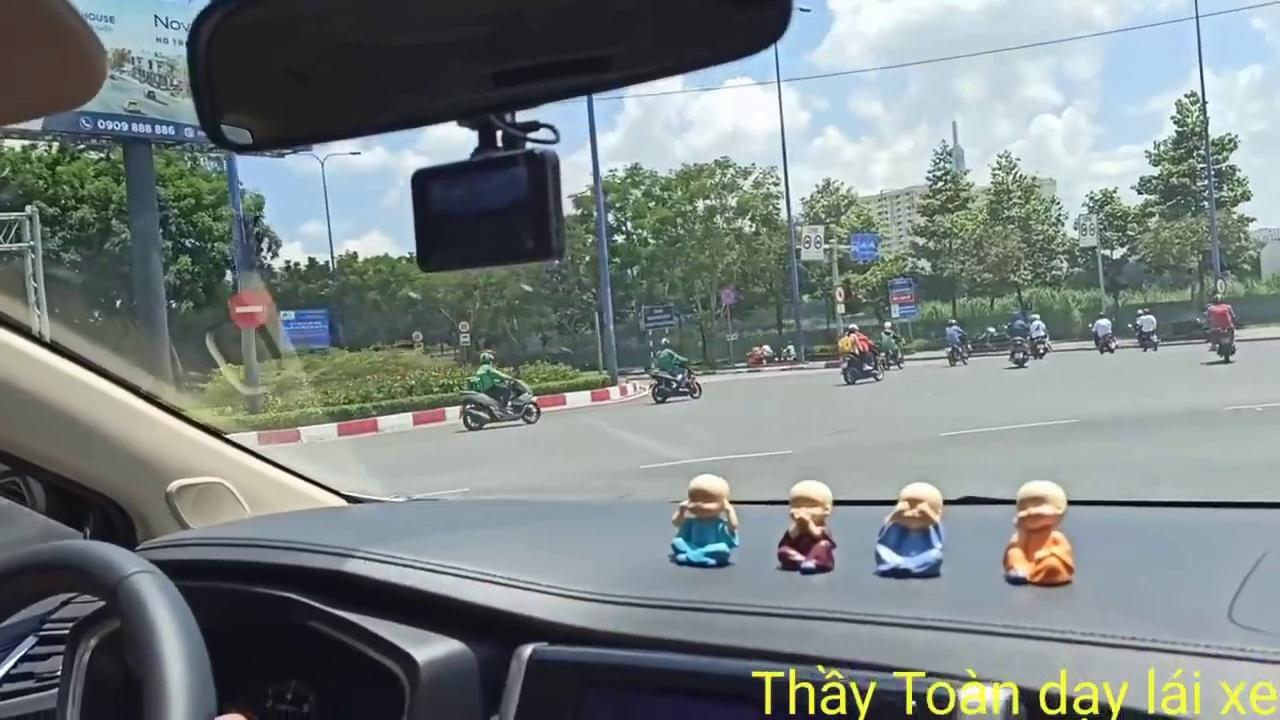Biển phụ: (460, 333, 471, 346)
Cấm cac phương tiện hoạt động trong khung giờ cố định: (802, 224, 825, 261)
Cấm dừng - Cấm đỗ: (719, 286, 736, 305)
Cấm đi ngược chiều: (227, 285, 270, 331)
Khác: (278, 308, 332, 350), (888, 274, 918, 320)
Làn đường cho từng xe: (849, 231, 878, 262)
